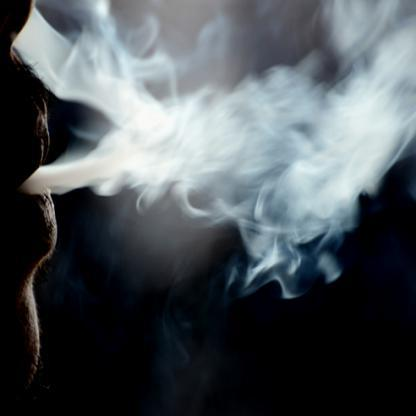smoke: (66, 71, 374, 225)
